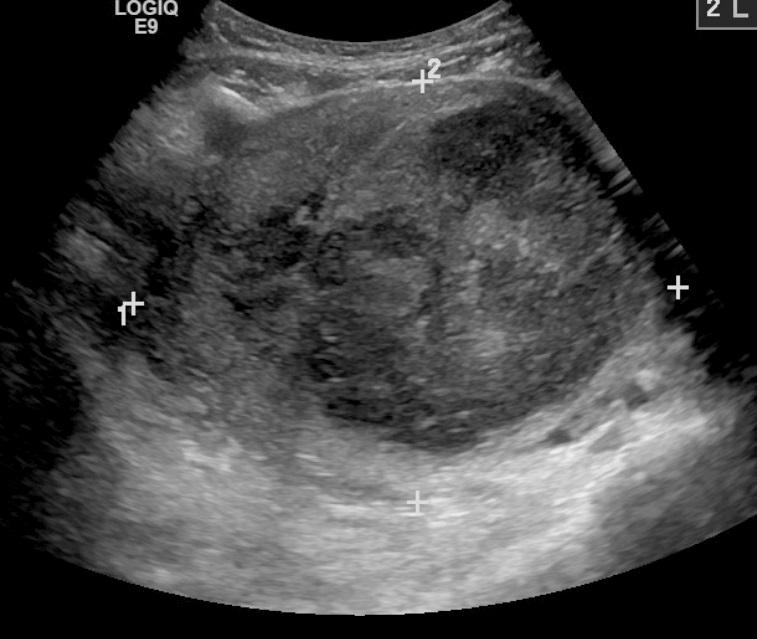Uterine fibroids: (303, 148, 619, 443)
